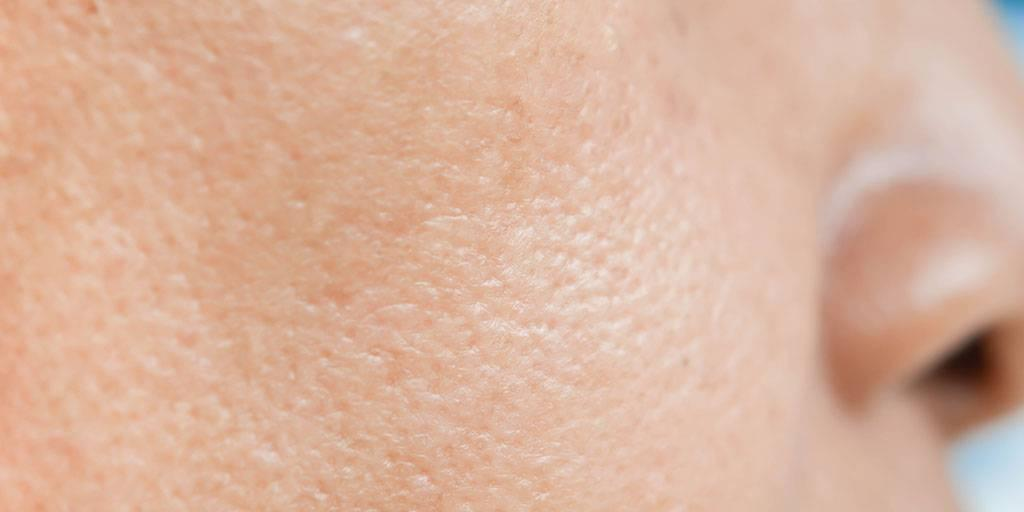Englarged-Pores: (216, 80, 646, 367)
Oily-Skin: (72, 40, 948, 456)
